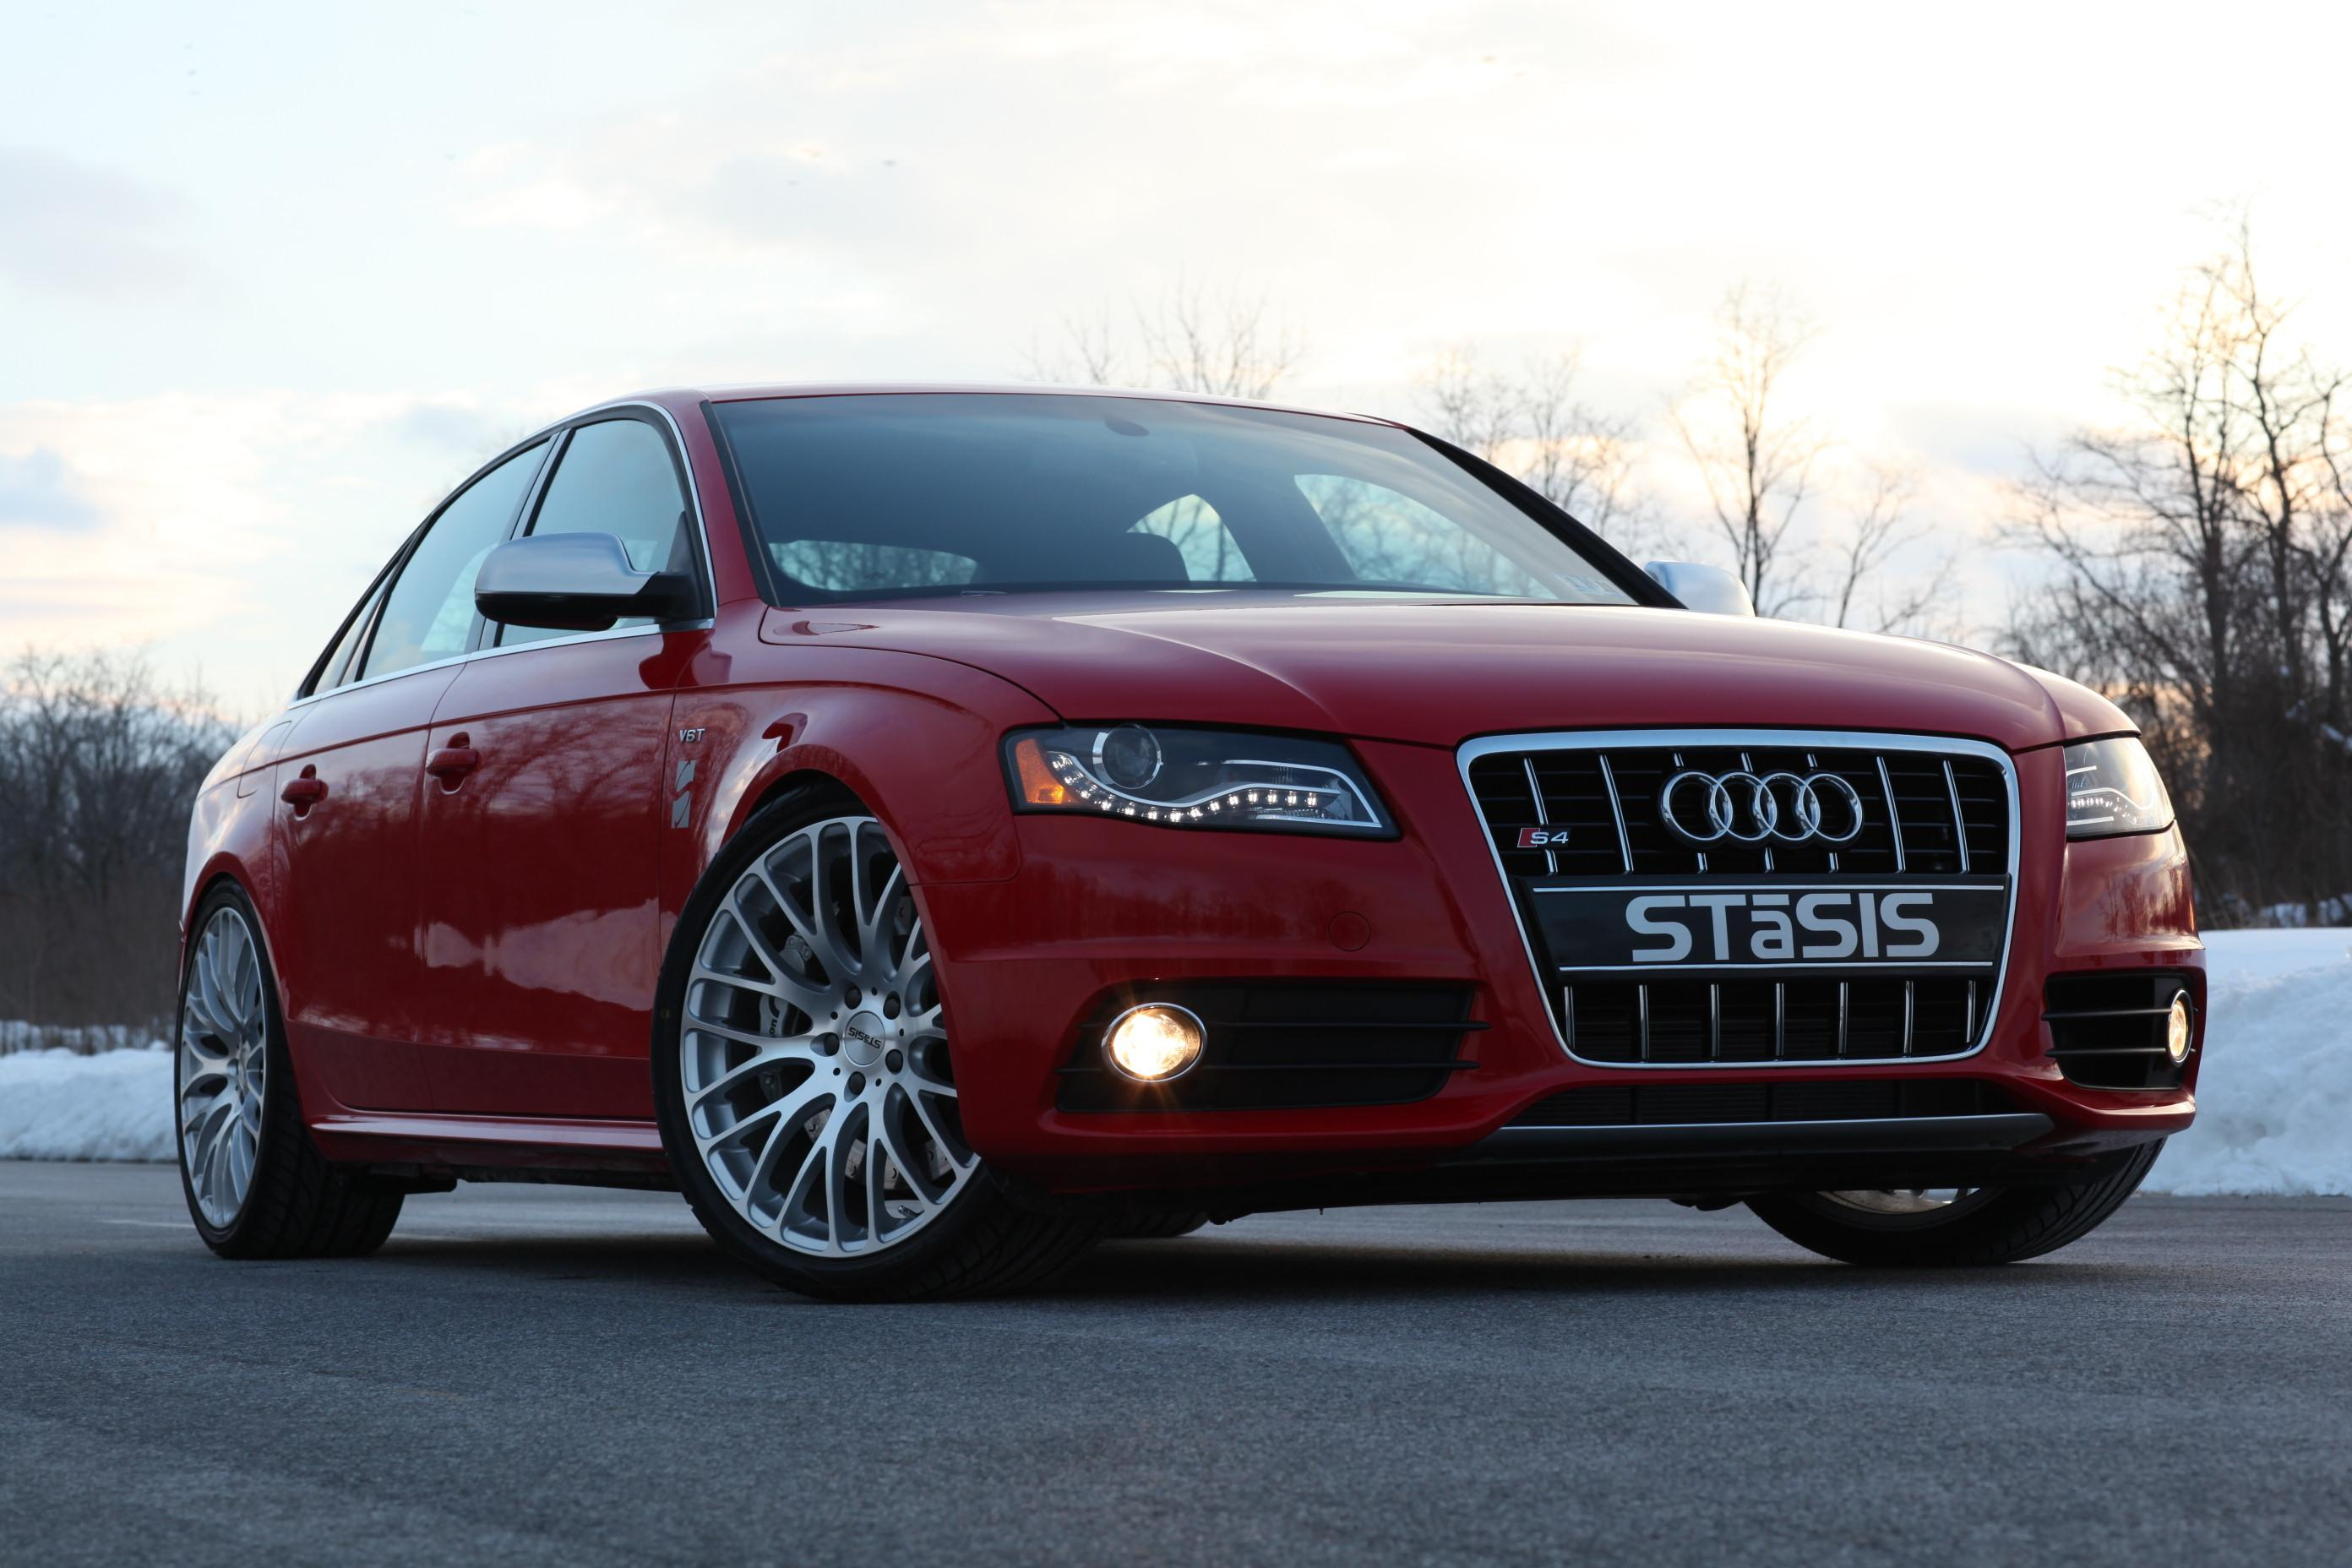Audi: (1615, 735, 1890, 870)
